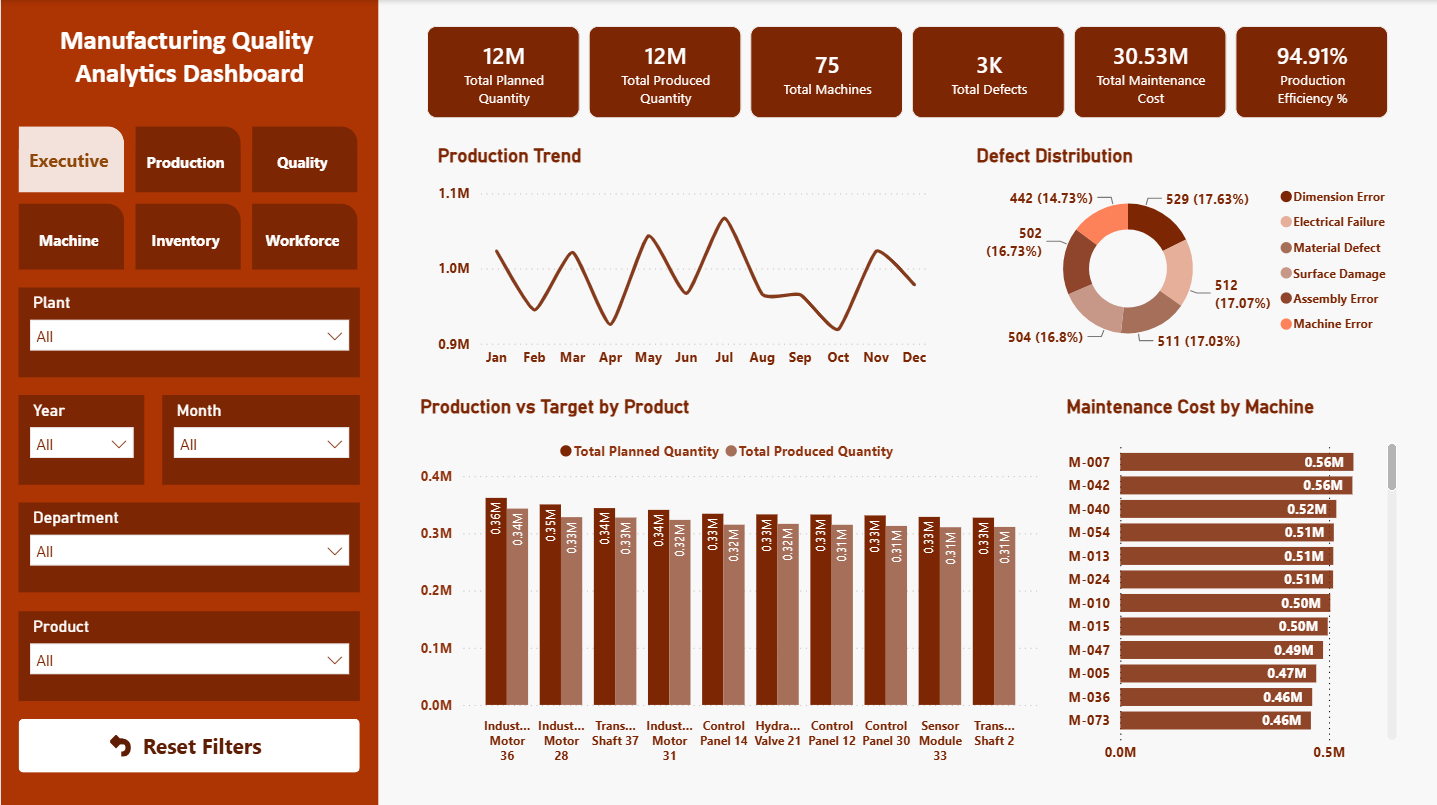

The page's visual inventory and layout, read from the dashboard file:
{"tool":"powerbi","page":{"name":"Executive","canvas":[1280,720],"ordinal":0},"visuals":[{"type":"textbox","box":[0,0,336,720],"z":500,"group":"g1"},{"type":"slicer","fields":{"Values":["Date.Month"]},"box":[144,352,176,80],"z":1000,"group":"g1"},{"type":"slicer","fields":{"Values":["Date.Year"]},"box":[16,352,112,80],"z":2000,"group":"g1"},{"type":"cardVisual","fields":{"Data":["Metrics.Total Planned Quantity","Metrics.Total Produced Quantity","Metrics.Total Machines","Metrics.Total Defects","Metrics.Total Maintenance Cost","Metrics.Production Efficiency %"]},"box":[336,0,944,128],"z":3000},{"type":"slicer","title":"Plant","fields":{"Values":["Plant.plant_name"]},"box":[16,256,304,80],"z":4000,"group":"g1"},{"type":"lineChart","title":"Production Trend","fields":{"Y":["Metrics.Total Produced Quantity"],"Category":["Date.Month Sh"]},"box":[384,128,448,208],"z":5000},{"type":"clusteredColumnChart","title":"Production vs Target by Product","fields":{"Category":["Product.product_name"],"Y":["Metrics.Total Planned Quantity","Metrics.Total Produced Quantity"]},"box":[368,352,560,336],"z":6000},{"type":"donutChart","title":"Defect Distribution","fields":{"Category":["Defect.defect_type"],"Y":["CountNonNull(Defect.defect_id)"]},"box":[864,128,384,192],"z":7000},{"type":"clusteredBarChart","title":"Maintenance Cost by Machine","fields":{"Category":["Machine.Machine Display Name"],"Y":["Metrics.Total Maintenance Cost"]},"box":[944,352,304,336],"z":8000},{"type":"pageNavigator","box":[16,112,304,128],"z":9000,"group":"g1"},{"type":"slicer","title":"Plant","fields":{"Values":["Department.department_name"]},"box":[16,448,304,80],"z":10000,"group":"g1"},{"type":"slicer","title":"Plant","fields":{"Values":["Product.product_name"]},"box":[16,544,304,80],"z":11000,"group":"g1"},{"type":"actionButton","box":[16,640,304,48],"z":12000,"group":"g1"},{"type":"group","id":"g1","title":"Sidebar","box":[0,0,336,720],"z":12001}]}

Visuals, with their boxes in screenshot pixels (x1, y1, x2, y2), scaled from the page's 1280x720 canvas onto the 1437x805 screenshot:
textbox: pyautogui.locateOnScreen(0, 0, 377, 804)
slicer - Date.Month: pyautogui.locateOnScreen(162, 394, 359, 483)
slicer - Date.Year: pyautogui.locateOnScreen(18, 394, 144, 483)
cardVisual - Metrics.Total Planned Quantity x Metrics.Total Produced Quantity: pyautogui.locateOnScreen(377, 0, 1436, 143)
"Plant" slicer: pyautogui.locateOnScreen(18, 286, 359, 376)
"Production Trend" lineChart: pyautogui.locateOnScreen(431, 143, 934, 376)
"Production vs Target by Product" clusteredColumnChart: pyautogui.locateOnScreen(413, 394, 1042, 769)
"Defect Distribution" donutChart: pyautogui.locateOnScreen(970, 143, 1401, 358)
"Maintenance Cost by Machine" clusteredBarChart: pyautogui.locateOnScreen(1060, 394, 1401, 769)
pageNavigator: pyautogui.locateOnScreen(18, 125, 359, 268)
"Plant" slicer: pyautogui.locateOnScreen(18, 501, 359, 590)
"Plant" slicer: pyautogui.locateOnScreen(18, 608, 359, 698)
actionButton: pyautogui.locateOnScreen(18, 716, 359, 769)
"Sidebar" group: pyautogui.locateOnScreen(0, 0, 377, 804)
